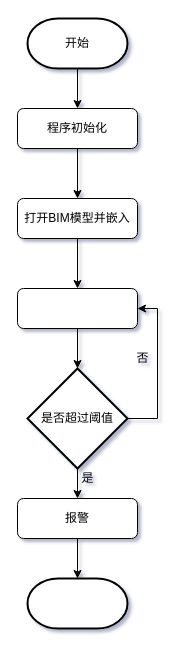
The diagram is 189 pixels wide and 652 high, and some of its shapes have lost their labels. The shapes that lost their labels are listed below. From the top down, each one's centre as x and y in pixels, then its label:
At [77,308]: "与应力传感器通信".
At [77,603]: "结束".
